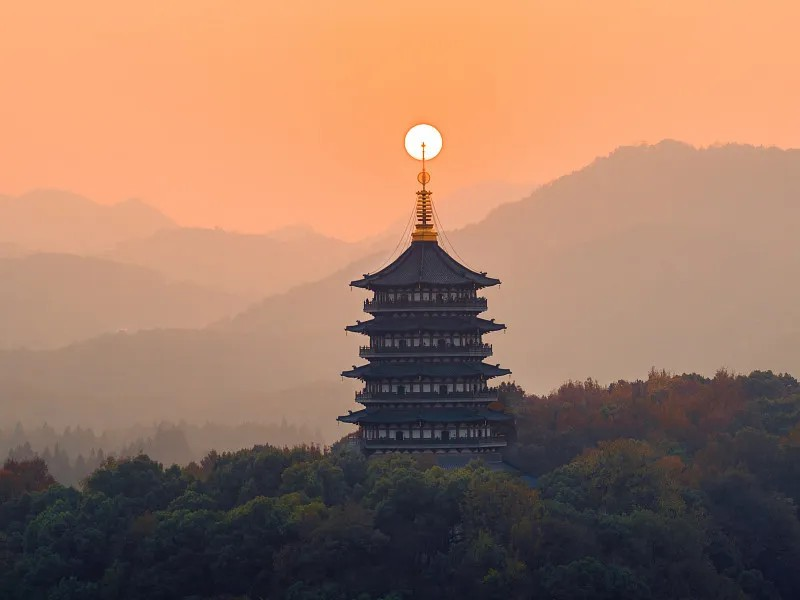Leifeng: (334, 144, 520, 465)
